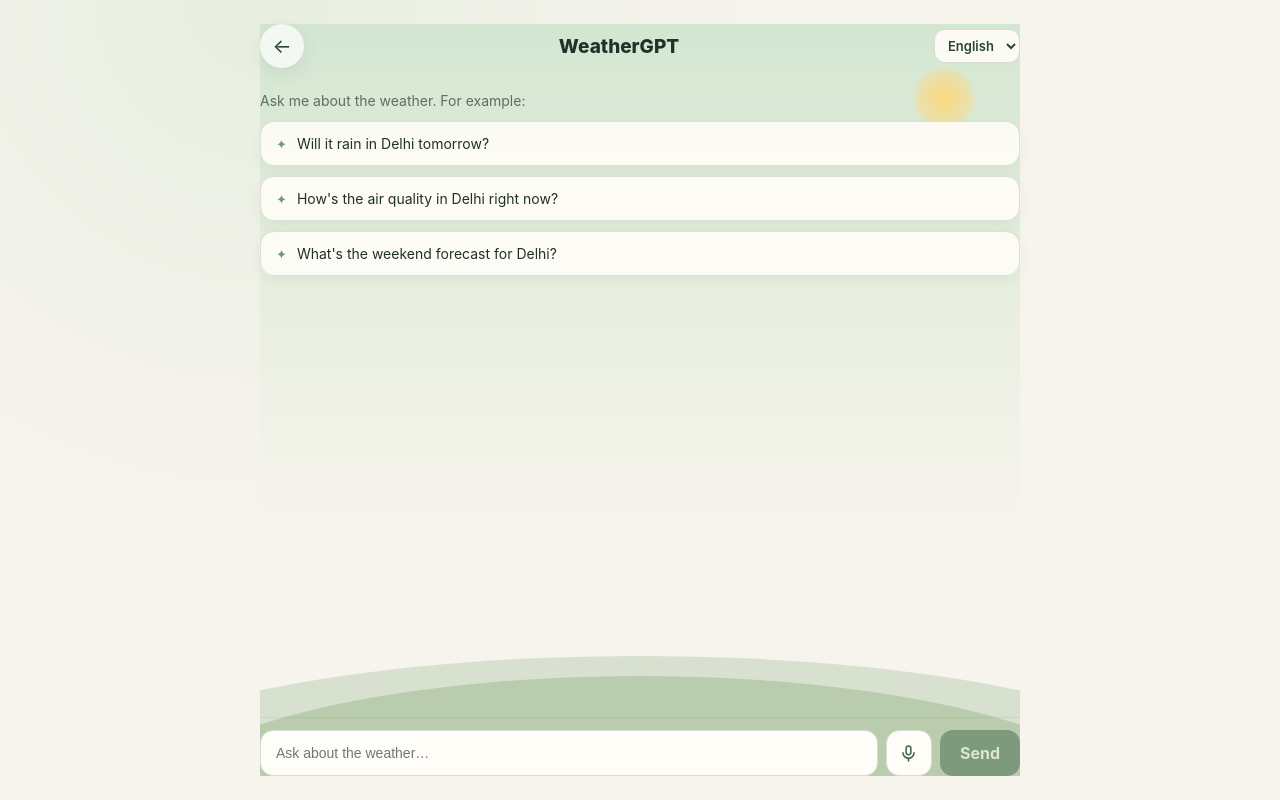
Test case: sends a clicked suggestion to the chat endpoint
Click the button with class "chat-suggestion" that starts with "Will it rain in Delhi tomorrow?".
click(393, 144)  # box top-left (260, 121), bottom-right (1020, 166)
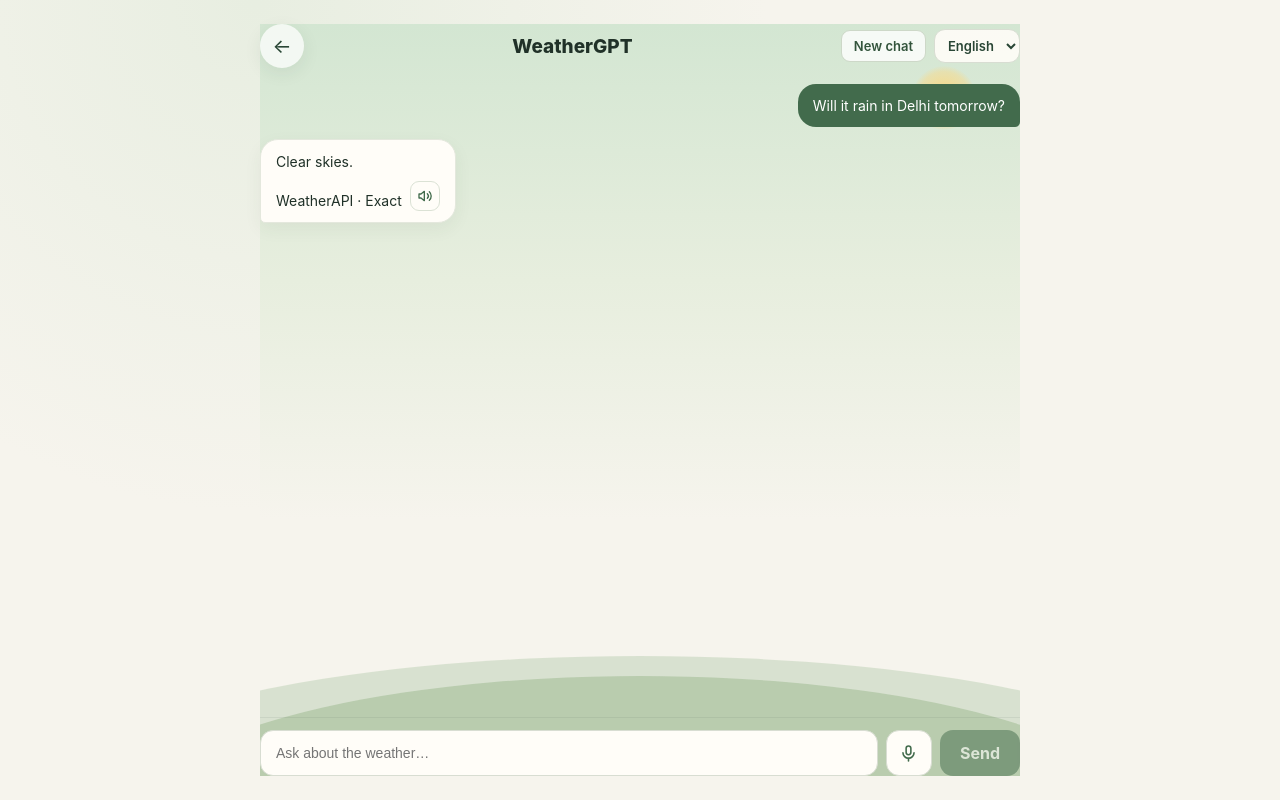
Expected: the text "Clear skies." is shown, top-left (276, 153), bottom-right (353, 170)
